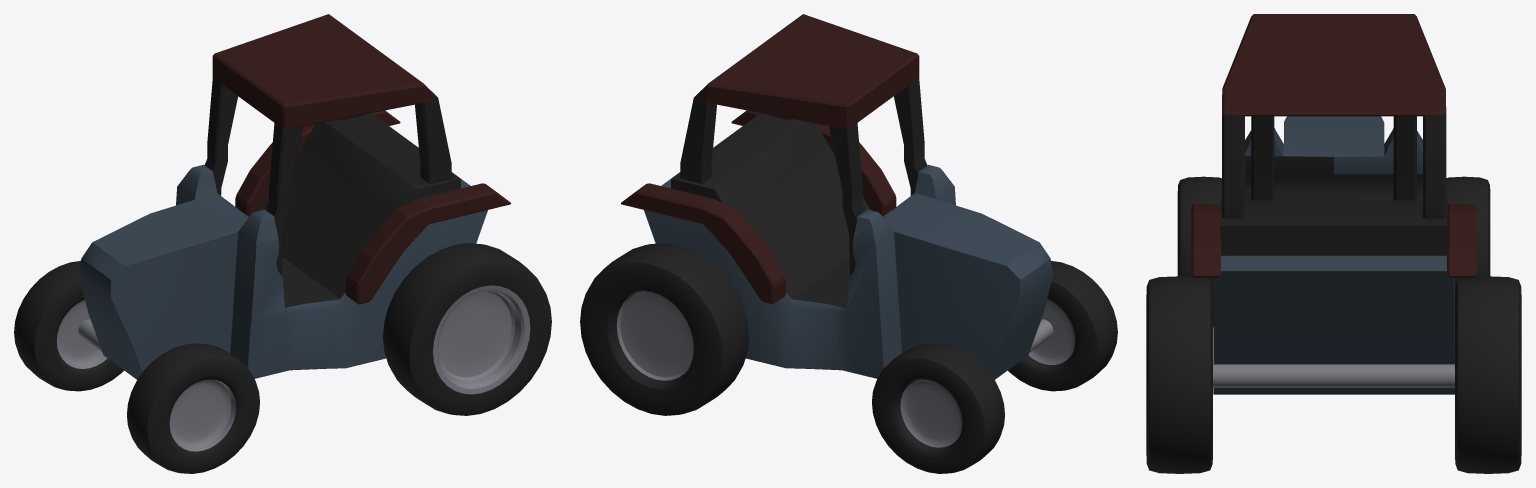
File: Tracktor.fbx
3 renders of one model, left to right at view 1: azimuth 30°, elevation 25°; view 2: azimuth 150°, elevation 25°; view 3: azimuth 270°, elevation 25°, orthographic. The views are drawn at different scales.
Visible parts, largest first — view 1: Chassie, Chassie.006, Chassie.005; view 2: Chassie, Chassie.007, Chassie.005; view 3: Chassie, Chassie.006, Chassie.007, Axel, Chassie.005.
Boxes of the visible parts, x1=… form: Chassie: x1=78, y1=14, x2=510, y2=379; Chassie.006: x1=383, y1=243, x2=551, y2=415; Chassie.005: x1=14, y1=261, x2=259, y2=473; Chassie: x1=621, y1=14, x2=1053, y2=379; Chassie.007: x1=580, y1=243, x2=748, y2=415; Chassie.005: x1=872, y1=261, x2=1117, y2=473; Chassie: x1=1191, y1=14, x2=1476, y2=394; Chassie.006: x1=1146, y1=276, x2=1212, y2=473; Chassie.007: x1=1455, y1=276, x2=1521, y2=473; Axel: x1=1213, y1=364, x2=1454, y2=387; Chassie.005: x1=1177, y1=176, x2=1490, y2=326.
Bounding box in the file's own units: 218 × 168 × 154.
